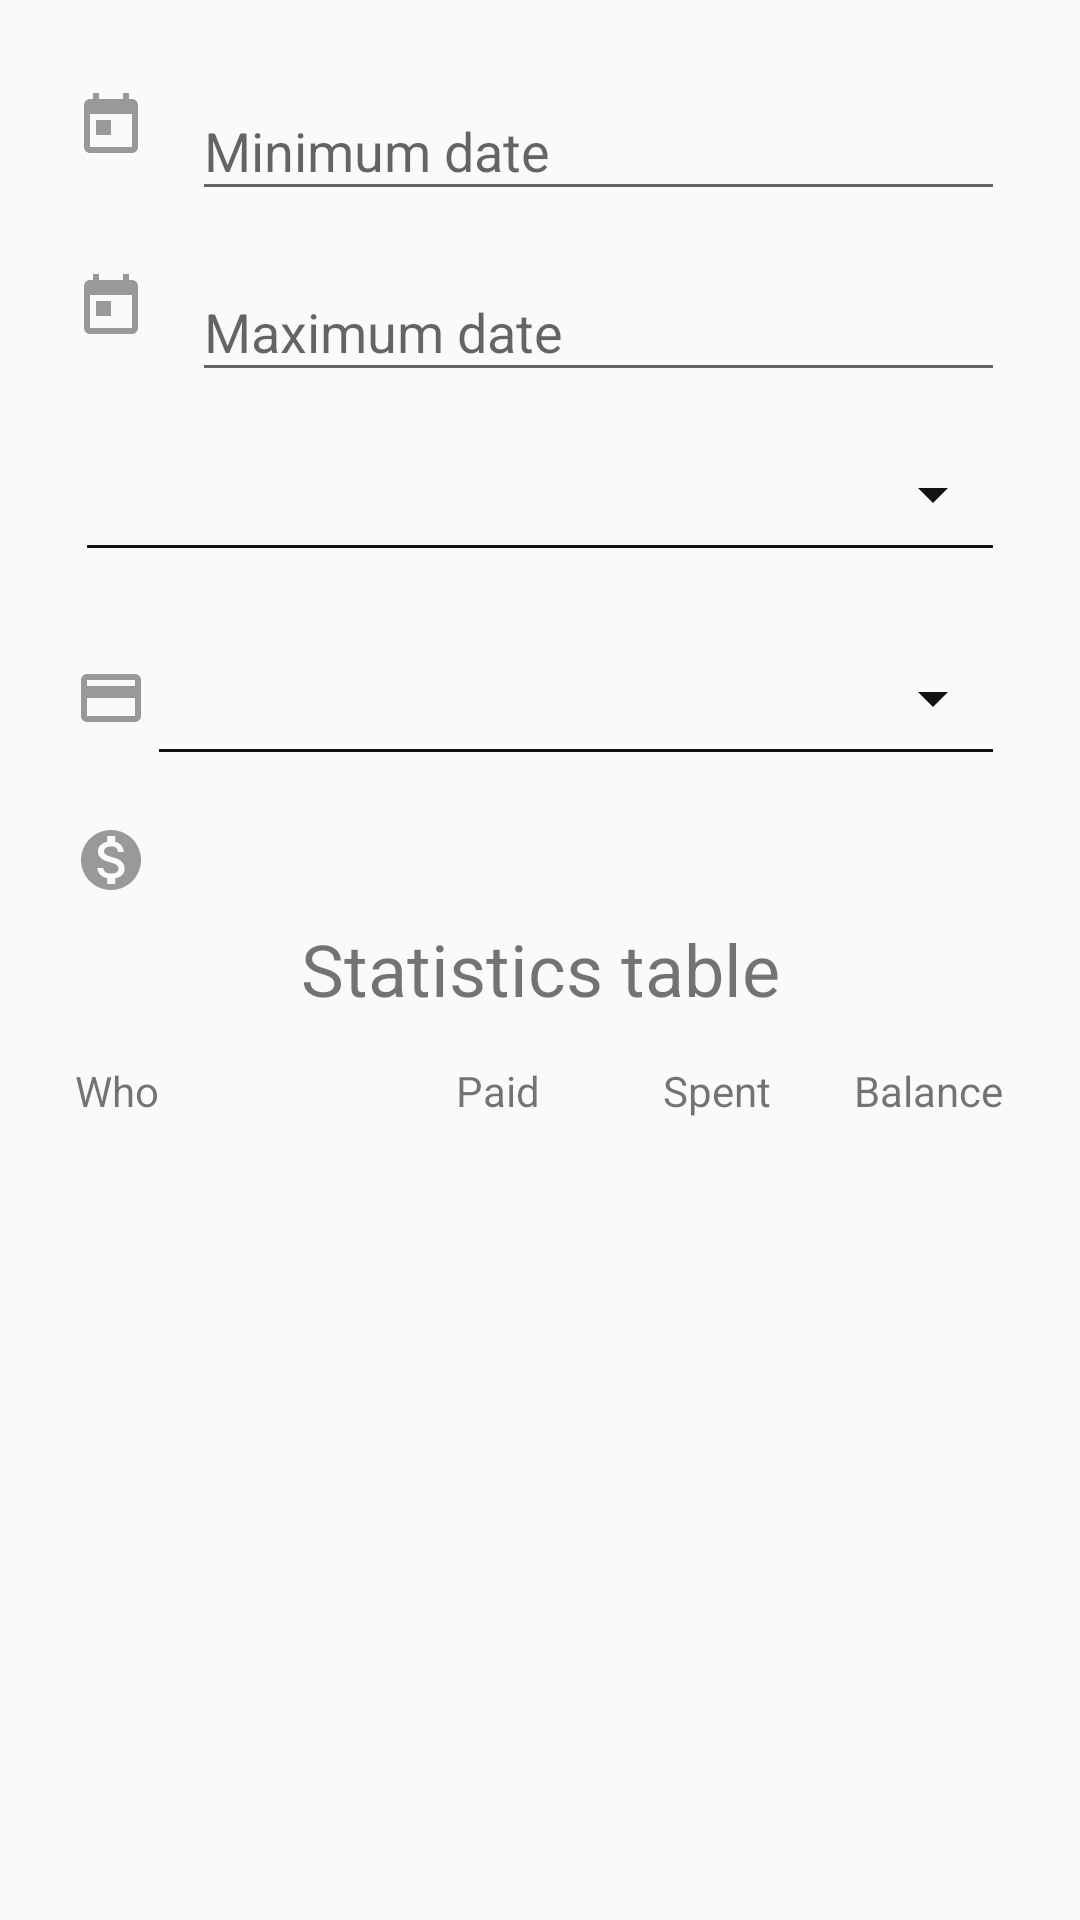

Locate icon controls on the screen. Image size 1080px×1920px, boxes as rect(x1, y1, x2, y2).
credit card: rect(81, 674, 141, 722)
dollar: rect(81, 830, 141, 890)
today: rect(84, 93, 138, 153), rect(84, 274, 138, 334)
